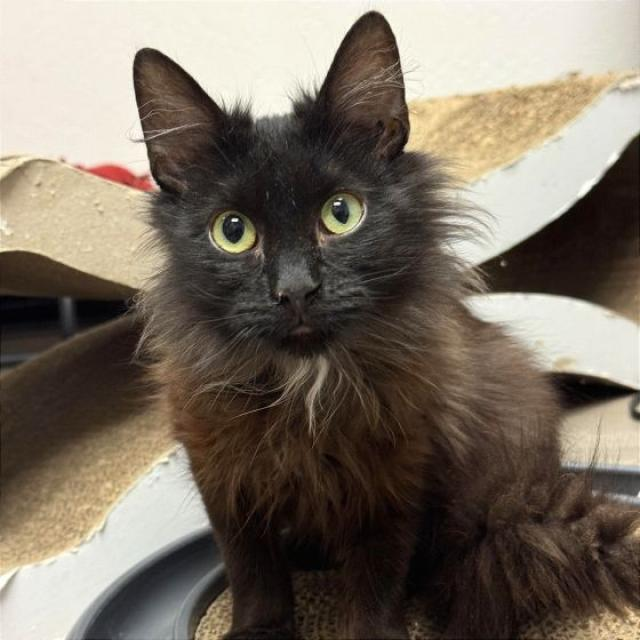domestic_long_hair_cat: (107, 7, 480, 412)
